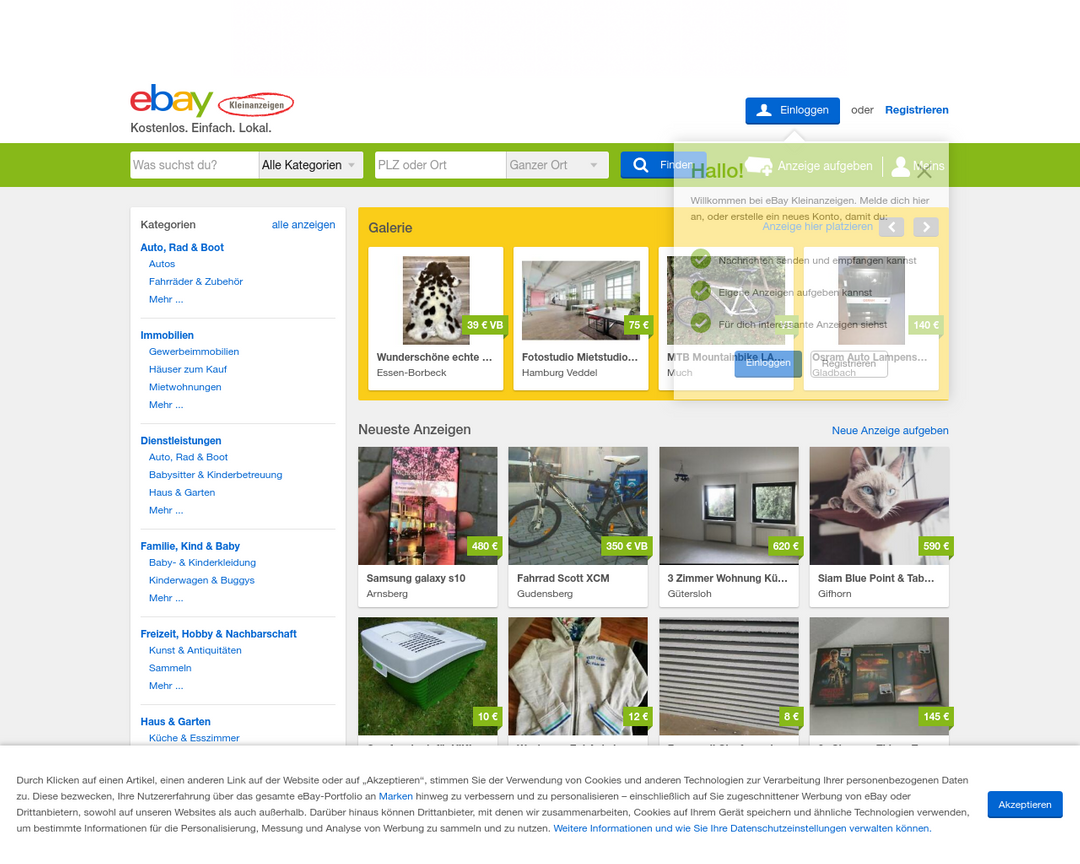Ebay: (125, 80, 215, 121)
